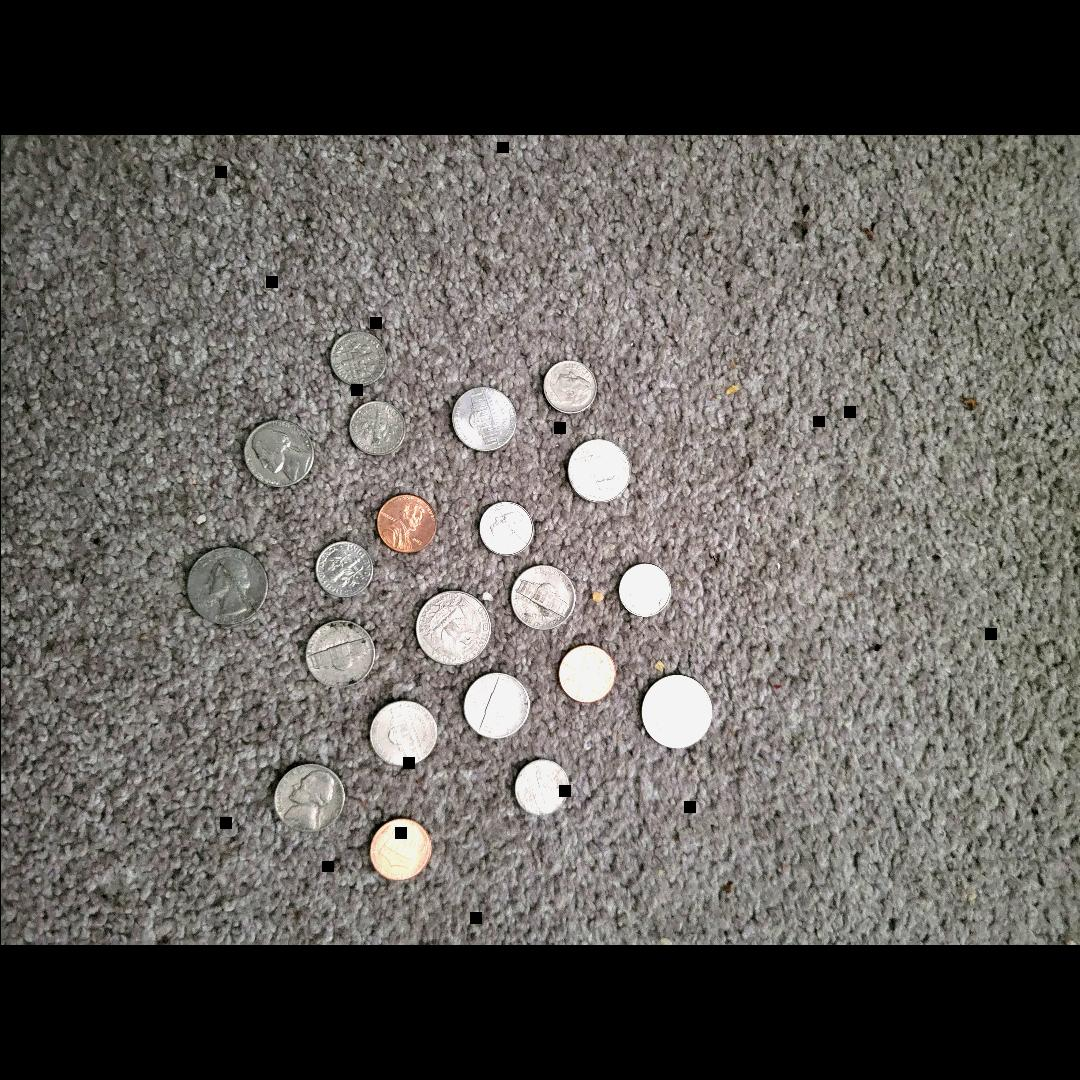Dime: (323, 327, 391, 391), (471, 497, 539, 561), (309, 535, 377, 599), (535, 354, 603, 418), (342, 396, 410, 460), (507, 755, 573, 817), (612, 560, 676, 620)
Nickel: (446, 380, 524, 454), (362, 696, 440, 770), (559, 432, 636, 506), (273, 759, 350, 833), (241, 415, 318, 489), (502, 561, 578, 635), (460, 666, 536, 740), (302, 614, 378, 688)
Penny: (372, 487, 438, 557), (366, 812, 432, 882), (551, 637, 617, 707)
Quarter: (184, 540, 272, 628), (410, 582, 499, 669), (634, 664, 724, 750)
